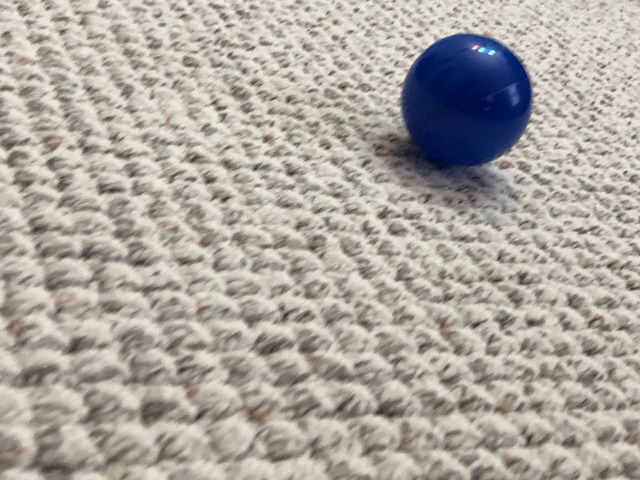Ball: (403, 36, 528, 164)
